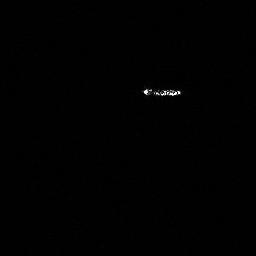ship: (140, 85, 183, 99)
